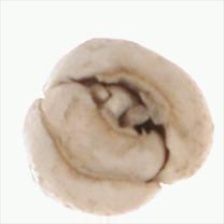L3: (38, 71, 169, 187)
L4: (26, 37, 214, 215)
